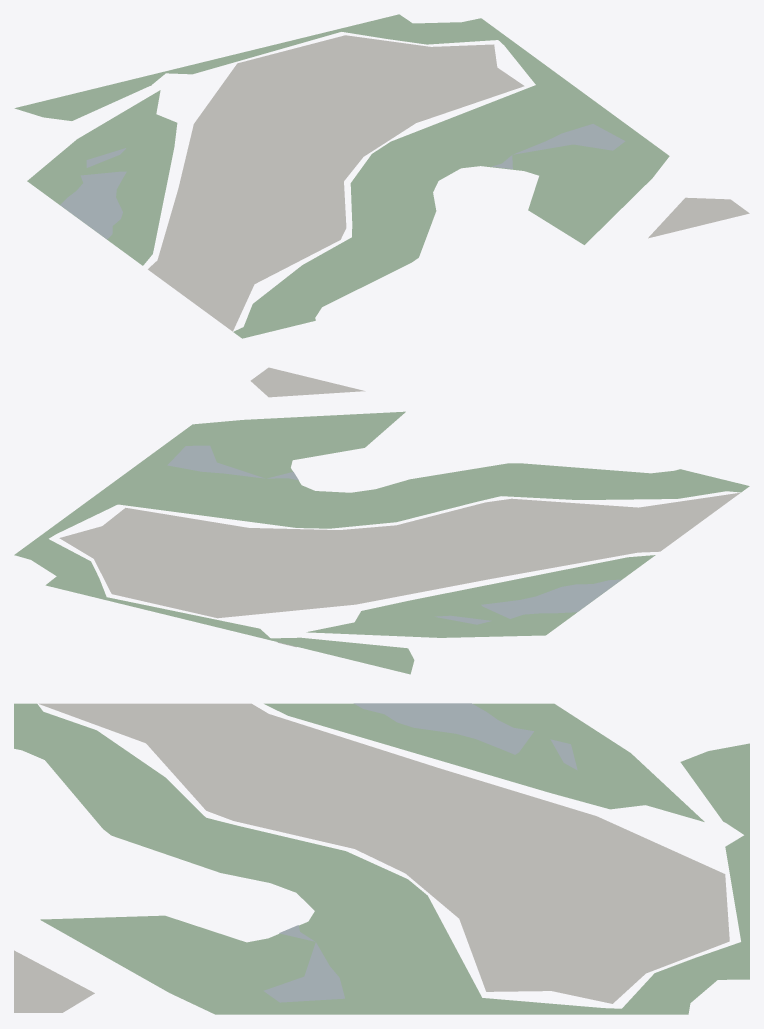
Rendered from 101_114_mid.glb.
The picture shows the model from 3 angles, top to bottom: view 1: azimuth 30°, elevation 25°; view 2: azimuth 150°, elevation 25°; view 3: azimuth 270°, elevation 25°; orthographic projection. The views are drawn at different scales.
Size of the model in its own units: 500 by 1.88 by 500.
